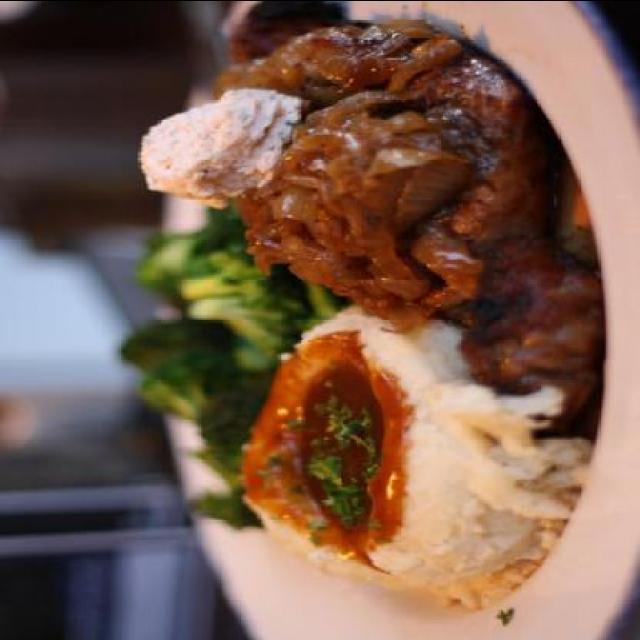Steak: (150, 26, 533, 274)
